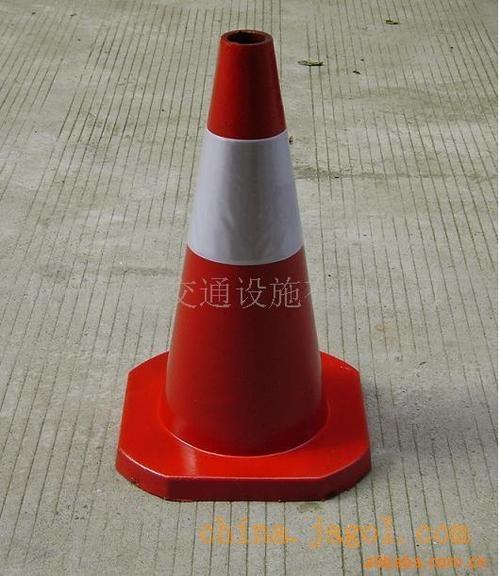cone_barrel: (130, 30, 359, 485)
